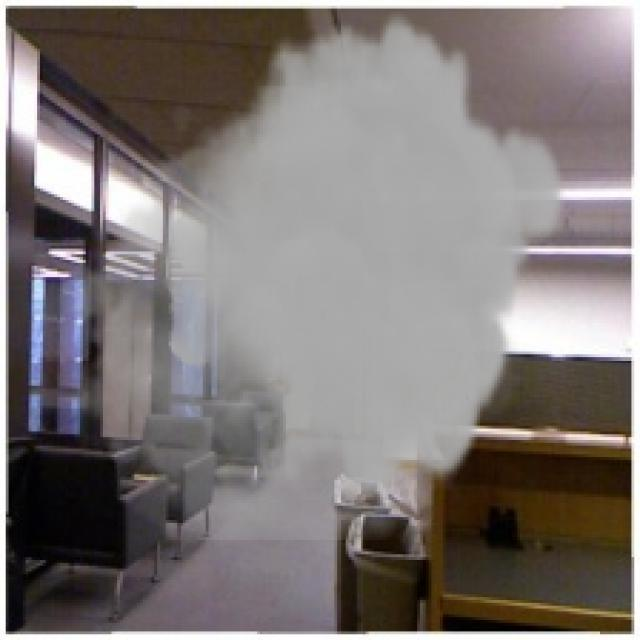smoke: (54, 11, 569, 540)
